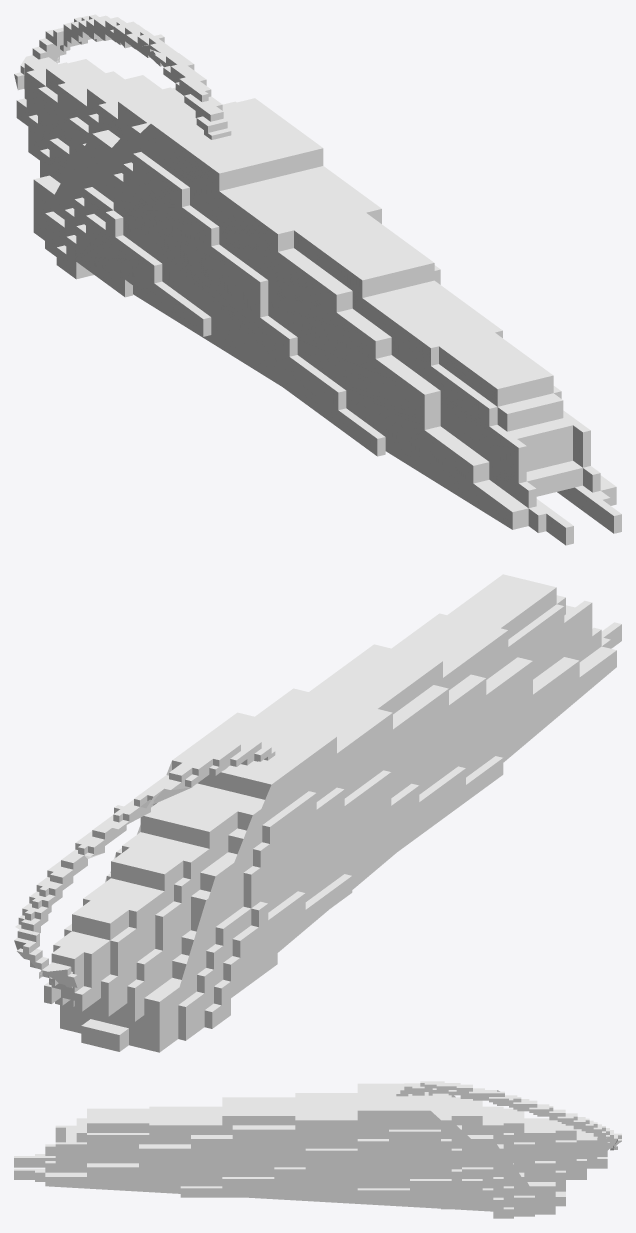
Rendered from phaser.obj.
3 views of the same model, one above another, from view 1: azimuth 30°, elevation 25°; view 2: azimuth 150°, elevation 25°; view 3: azimuth 270°, elevation 25° (orthographic). The views are drawn at different scales.
Parts seen in each view (by area): view 1: Cube, BezierCurve; view 2: Cube, BezierCurve; view 3: Cube, BezierCurve.
Part boxes in pixels (x1,y1,x2,y2): Cube: (16, 57, 621, 545); BezierCurve: (14, 14, 231, 139); Cube: (44, 574, 621, 1052); BezierCurve: (14, 739, 275, 988); Cube: (14, 1083, 607, 1218); BezierCurve: (396, 1081, 621, 1150).
Size of the model in its own units: 0.1845 by 0.2846 by 1.34.
Materials: 1 (1 with a texture image).
